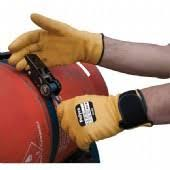gloves: (55, 89, 153, 152), (8, 13, 104, 73)
